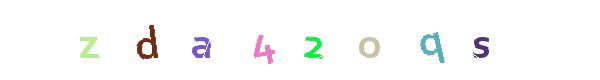2: (260, 0, 340, 80)
4: (220, 0, 300, 80)
A: (205, 0, 285, 80)
D: (189, 0, 269, 80)
O: (274, 0, 354, 80)
Q: (391, 0, 471, 80)
S: (430, 0, 510, 80)
Z: (108, 0, 188, 80)
